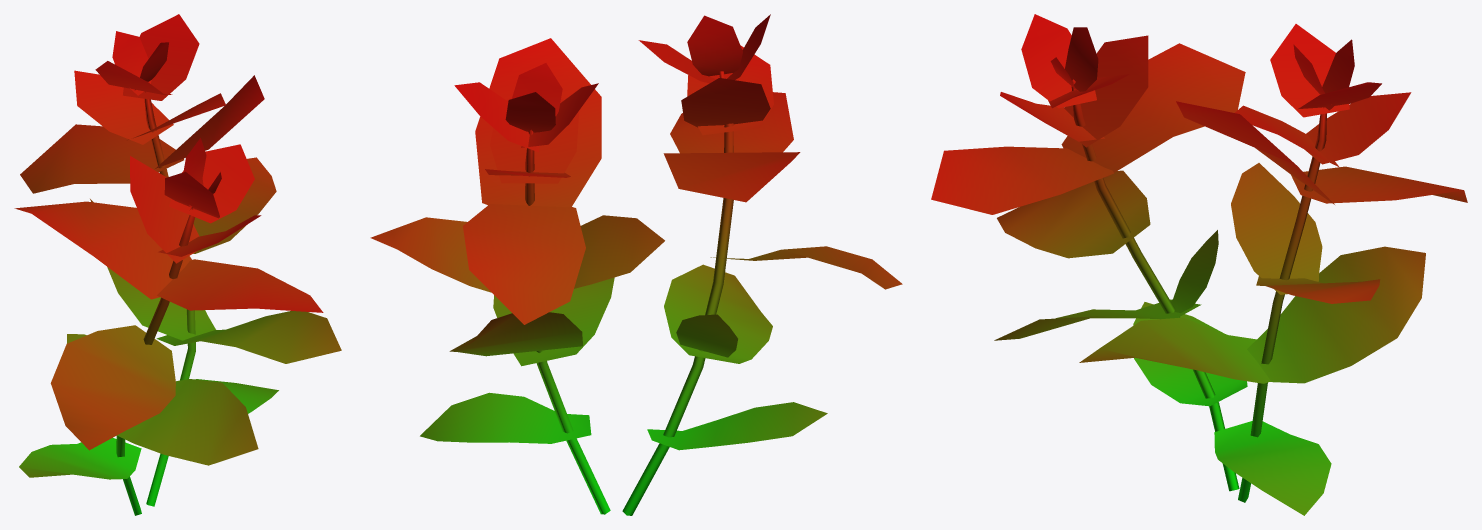
Rendered from Rubber Bush_LOD6_Var7_xffhfekia.fbx.
The picture shows the model from 3 angles, left to right: view 1: azimuth 30°, elevation 25°; view 2: azimuth 150°, elevation 25°; view 3: azimuth 270°, elevation 25°; orthographic projection. The views are drawn at different scales.
Visible parts, largest first — view 1: _nsj4_Var7_LOD6; view 2: _nsj4_Var7_LOD6; view 3: _nsj4_Var7_LOD6.
Boxes of the visible parts, bbox=[...] form: _nsj4_Var7_LOD6: bbox=[14, 14, 341, 515]; _nsj4_Var7_LOD6: bbox=[370, 14, 902, 515]; _nsj4_Var7_LOD6: bbox=[931, 14, 1467, 515].
Bounding box in the file's own units: 34.92 × 42.99 × 44.07.
